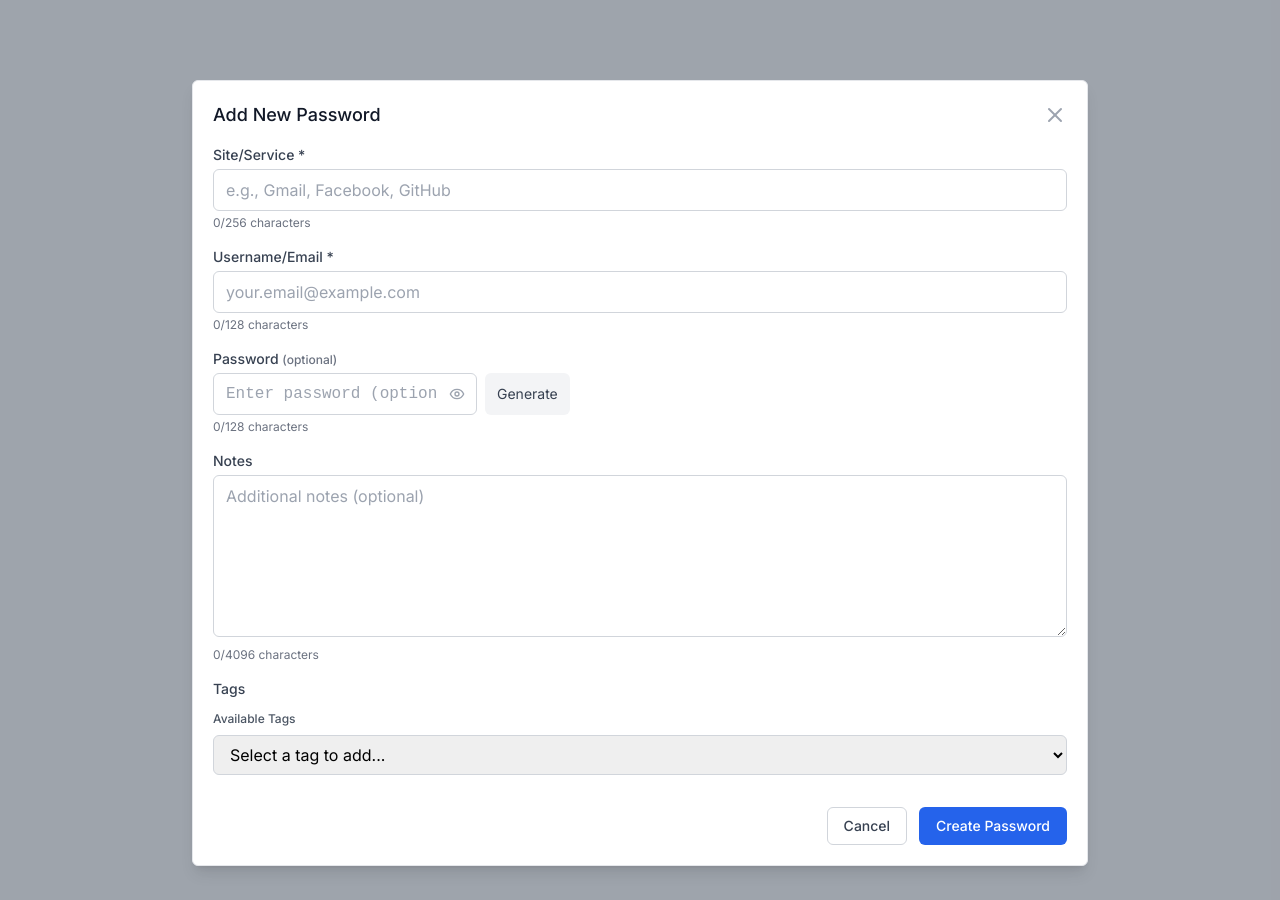
PasswordForm Mobile Tag Selection › should add tags via select dropdown
// Select Work tag
Select "Work" in the dropdown at (640,755), box [213,735,1067,775]
(page scrolled)
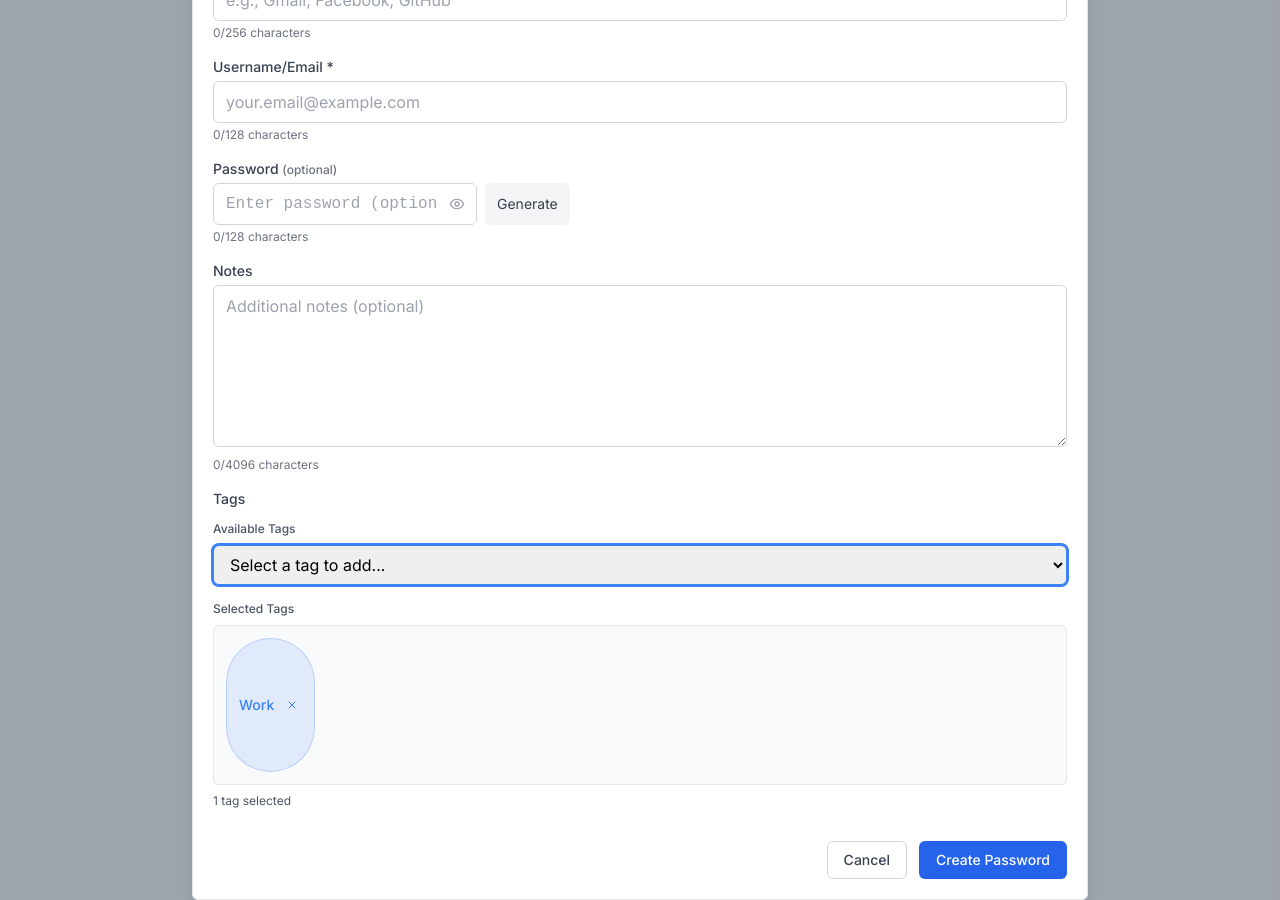
Expected: the text "Selected Tags" is shown, [213,601,294,616]
Expected: the text "Selected Tags" shows "Work", [239,696,274,713]
